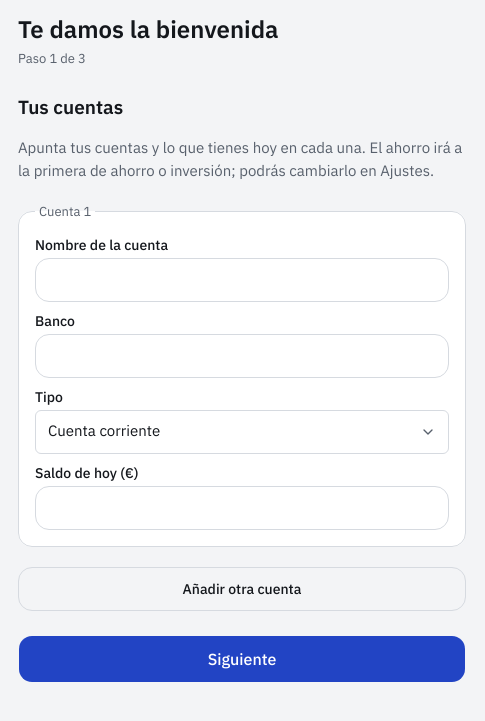
Test: OnboardingWizard › sin conexión, «Siguiente» sigue activo y «Empezar» no
Expected: the button "Siguiente" is enabled, [18,634,466,682]
Step 1. Type "BBVA principal" into the field labelled "Nombre de la cuenta" → (242, 280), box [35,258,449,302]
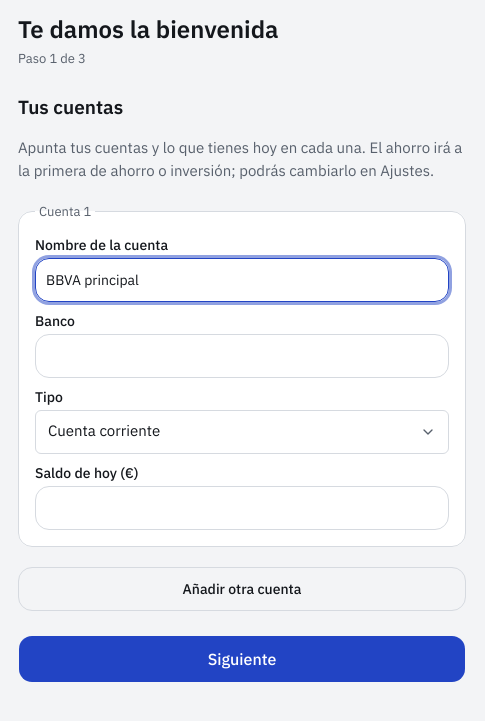
Step 2. Type "2.300,00" into the field labelled "Saldo de hoy (€)" → (242, 508), box [35,486,449,530]
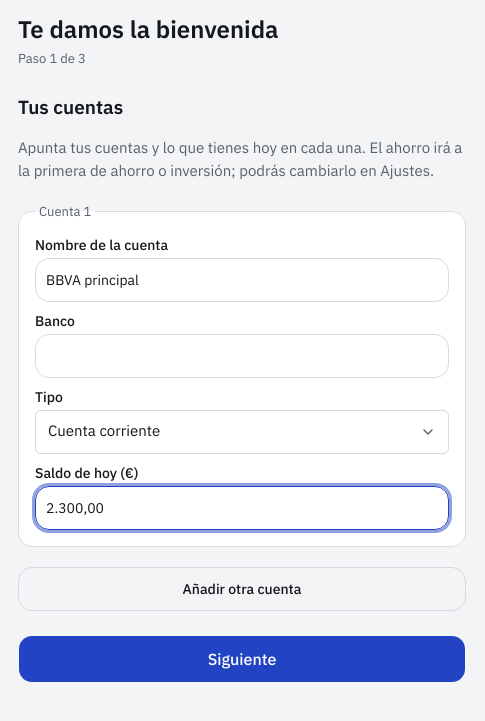
Step 3. Click the button "Siguiente" → (242, 658), box [18,634,466,682]
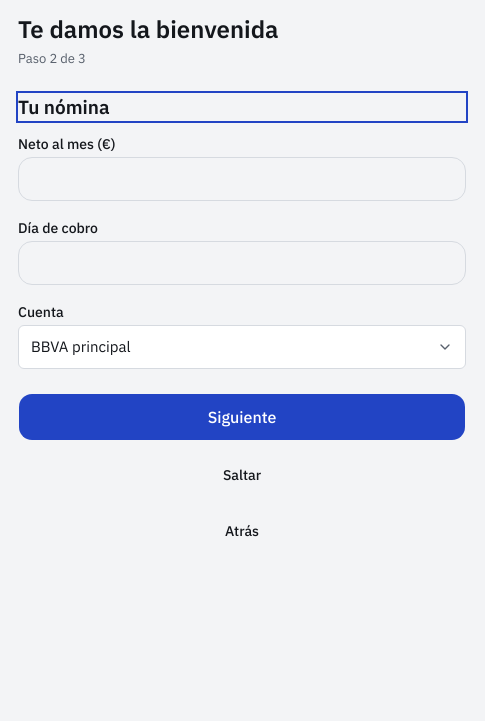
Step 4. Click the button "Saltar" → (242, 475), box [18,453,466,497]
(page scrolled)
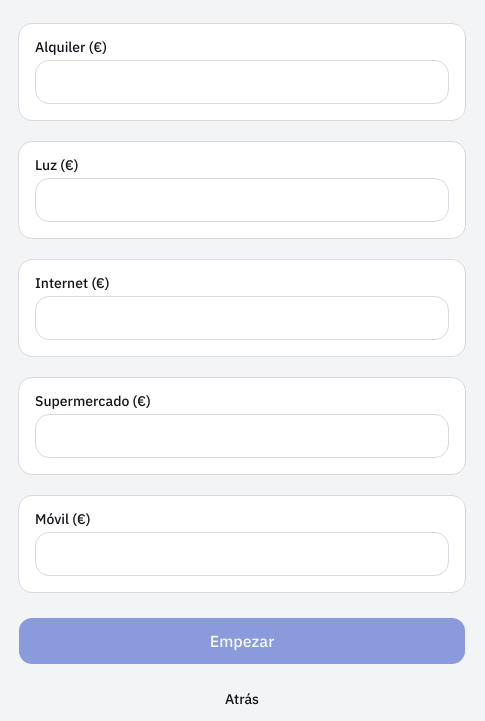
Result: the button "Empezar" is disabled at [18,617,466,665]
